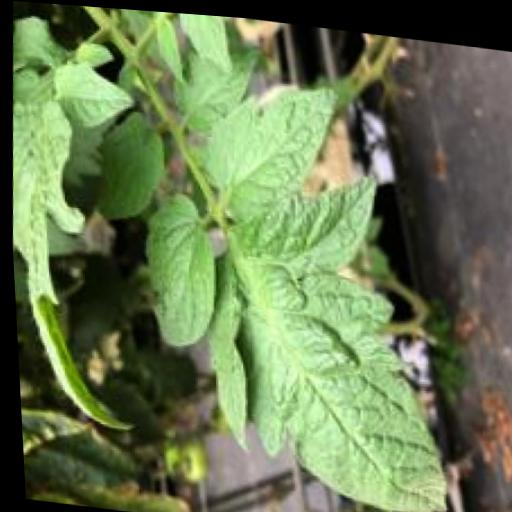Healthy: (196, 148, 446, 512), (191, 66, 344, 228), (136, 187, 220, 354), (168, 27, 271, 139), (87, 101, 166, 221)
